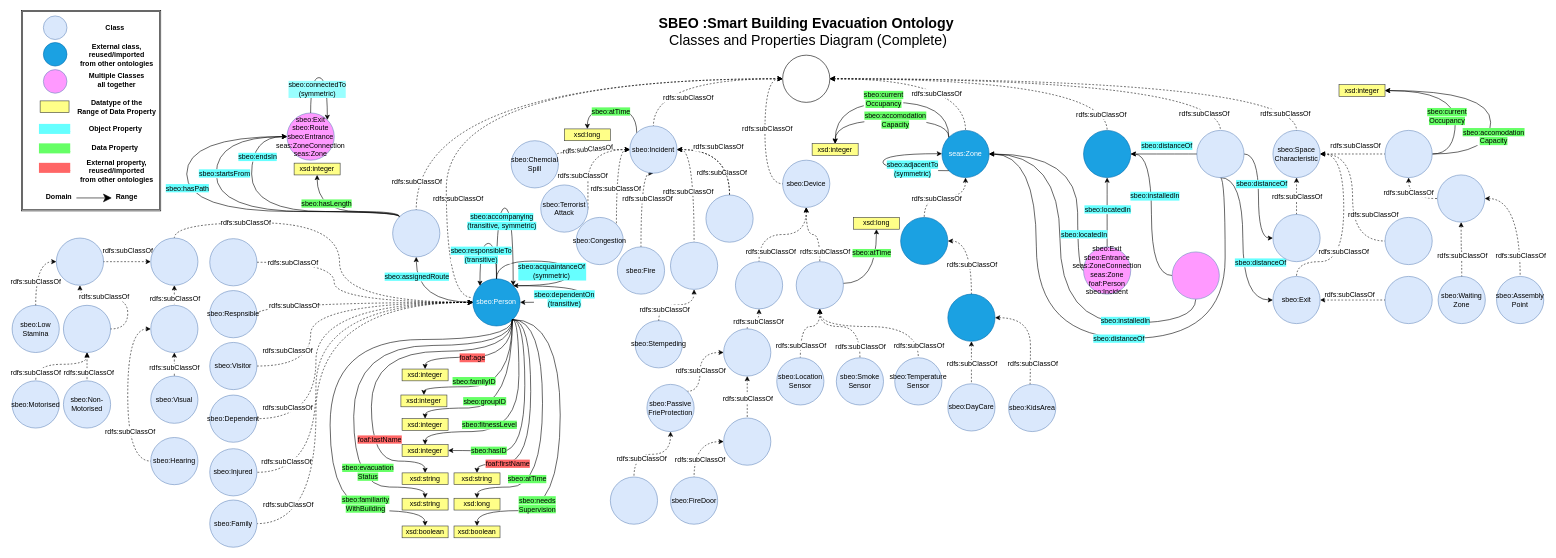
The diagram is 1556 pixels wide and 558 high, and some of its shapes have lost their labels. Here are the shapes that lost their labels. From the top down, the centre of each, then its label:
the point at 806,78: owl:Thing
the point at 1107,154: seas:Zone Connection
the point at 1220,154: sbeo:Distance
the point at 1408,154: sbeo:Available
the point at 729,218: sbeo:Earthquake
the point at 1461,198: sbeo:SafeZone
the point at 416,233: sbeo:Route
the point at 924,241: seas:Building Space
the point at 1296,238: sbeo:Entrance
the point at 1408,241: sbeo:UnAvailable
the point at 80,261: sbeo:Physical Impairment
the point at 174,261: sbeo:Impaired
the point at 233,262: sbeo:Normal
the point at 694,265: sbeo:Panic
the point at 1195,275: sbeo:Device seas:ZoneConnection seas:Zone
the point at 759,285: sbeo:Incident Protection
the point at 819,285: sbeo:Sensor
the point at 1408,300: sbeo:Emergency Exit
the point at 87,329: sbeo:Wheel Chair
the point at 174,329: sbeo:Sensory Impairment
the point at 971,317: seas:Room
the point at 747,352: sbeo:Fire Protection
the point at 747,441: sbeo:Active FireProtection
the point at 634,500: sbeo:Fire Extinguisher
